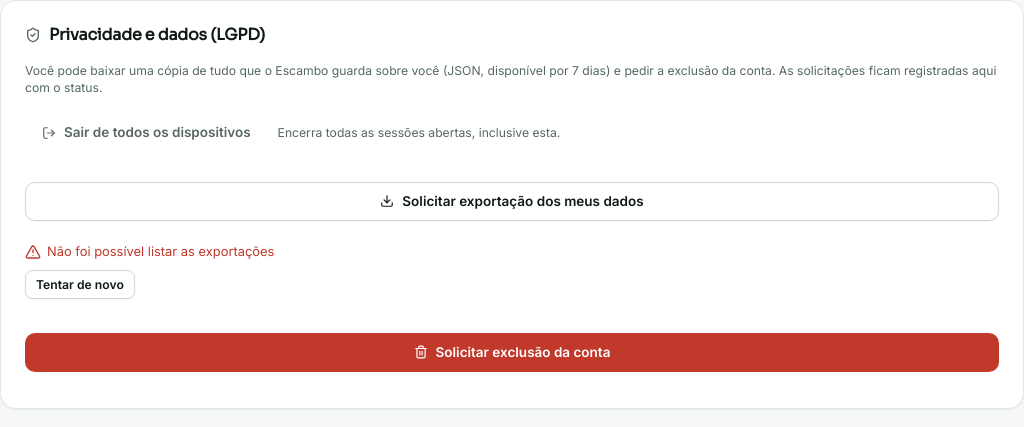
Scenario: privacidade: o que o cartão mostra › lista que não carrega mostra o erro e tenta de novo pelo botão
This screenshot has width=1024, height=427.
Expected: the message shows "Não foi possível listar as exportações", [47, 244, 274, 259]
Click the button "Tentar de novo" at (80, 284), box [25, 270, 135, 299]
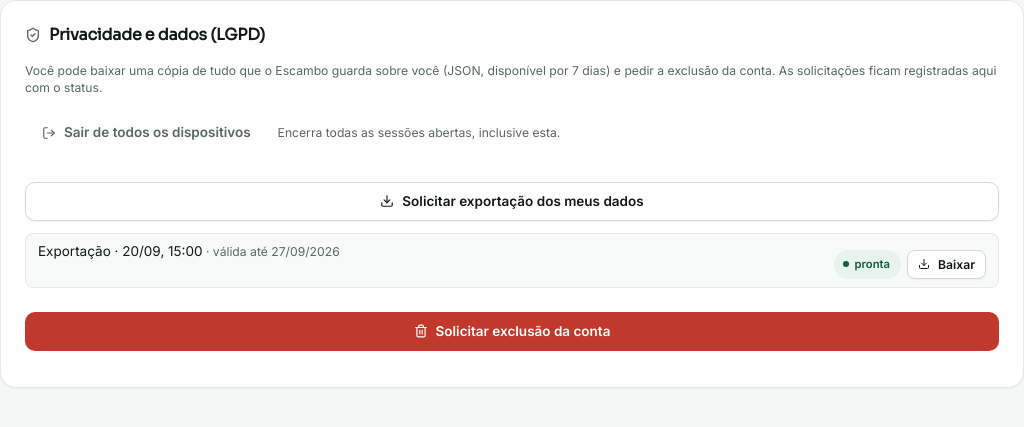
Now the text "pronta" is shown, box [834, 250, 901, 279]
Now the message "Não foi possível listar as exportações Tentar de novo" is gone
